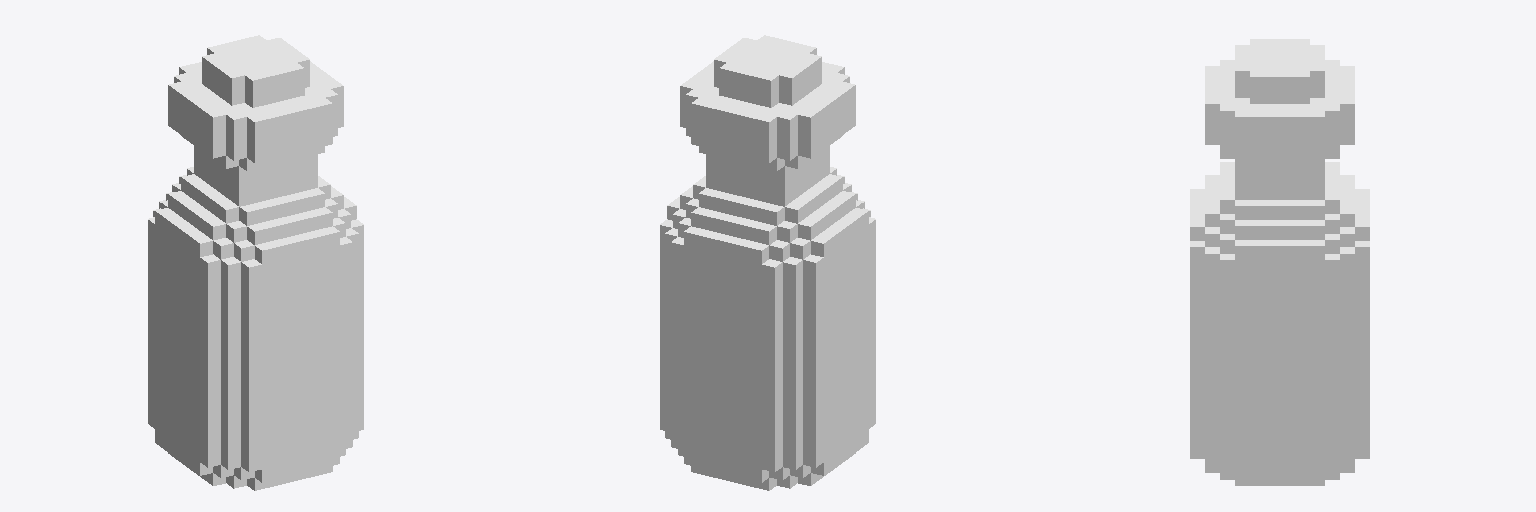
Rendered from potionagi02.obj.
3 renders of one model, left to right at view 1: azimuth 30°, elevation 25°; view 2: azimuth 150°, elevation 25°; view 3: azimuth 270°, elevation 25°, orthographic.
Parts seen in each view (by area): view 1: object 1; view 2: object 1; view 3: object 1.
Part boxes in pixels (x1,y1,x2,y2): object 1: (148,35,363,490); object 1: (660,35,875,490); object 1: (1190,39,1369,485).
Size of the model in its own units: 1.2 by 2.9 by 1.2.